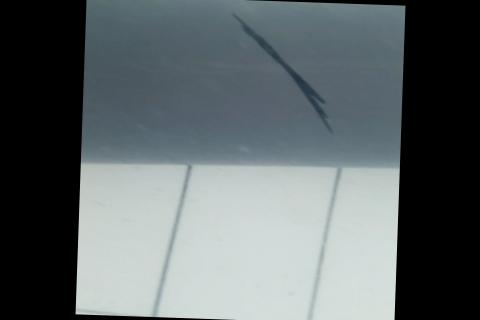keretakan: (223, 10, 337, 134)
